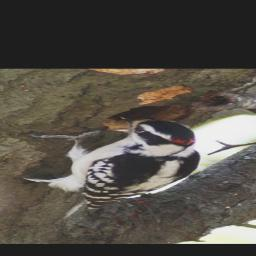Woodpecker: (23, 115, 199, 216)
